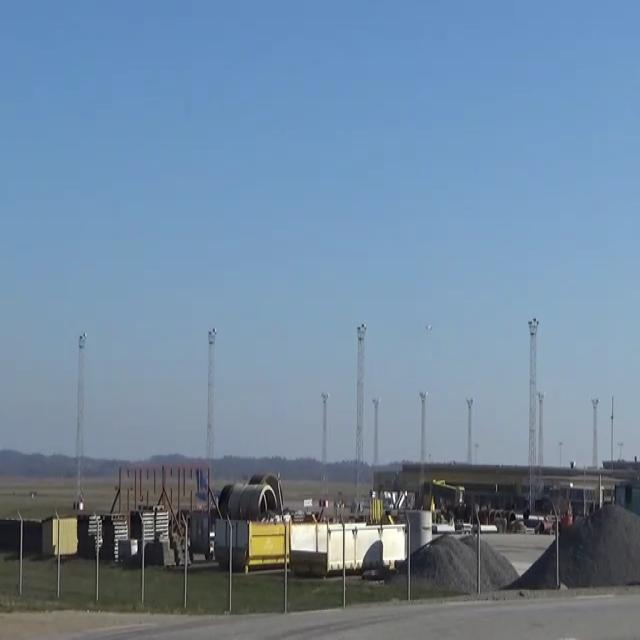AirPlane: (420, 316, 438, 338)
